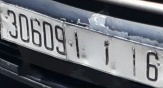0: (17, 13, 30, 43), (41, 21, 54, 51)
3: (6, 9, 19, 39)
6: (143, 51, 162, 82), (30, 16, 43, 48)
9: (54, 25, 67, 56)
a: (98, 37, 113, 68)
